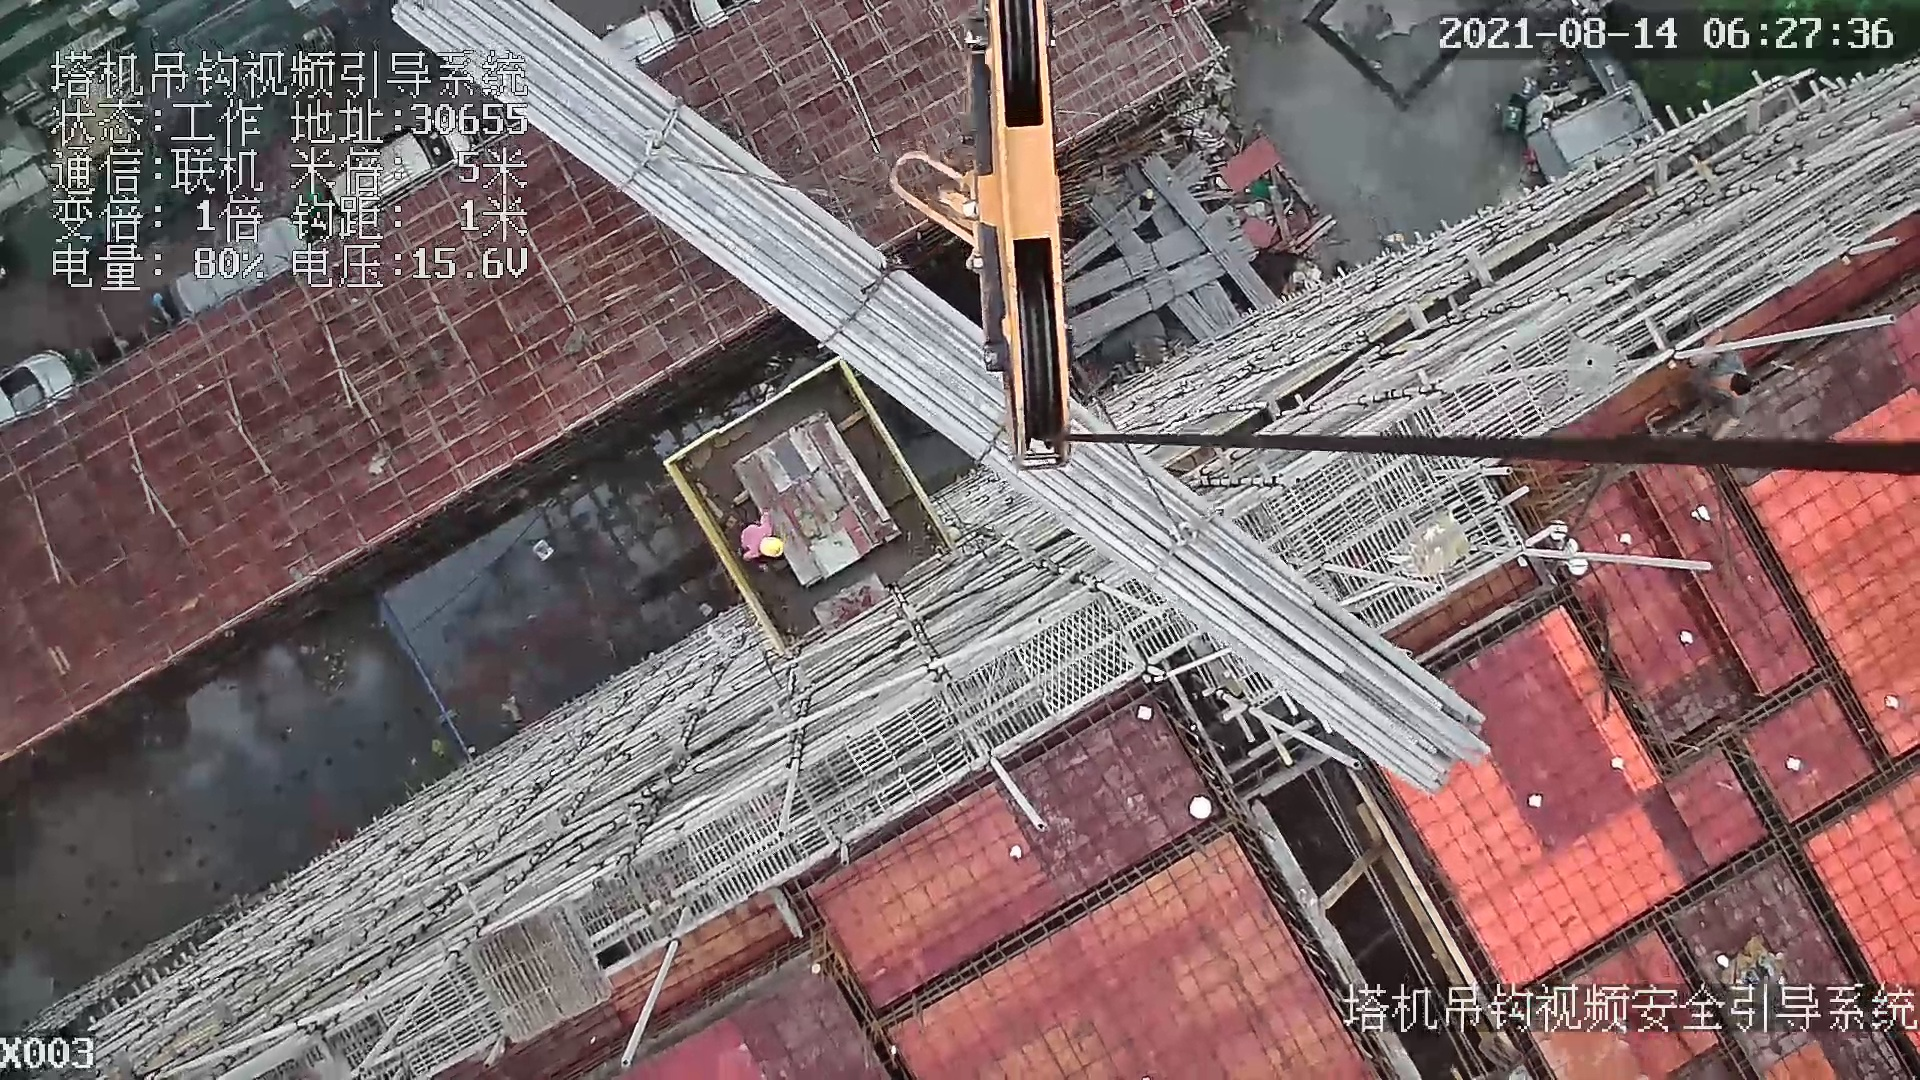helmet: (762, 529, 784, 565)
hook: (956, 1, 1081, 474)
person: (1693, 341, 1754, 434), (736, 514, 789, 566)
